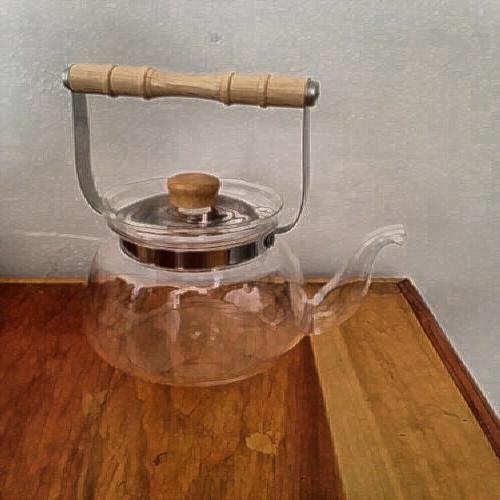kettle: (70, 60, 404, 384)
